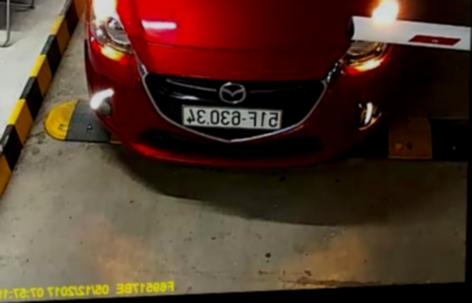License_Plate: (180, 97, 286, 137)
